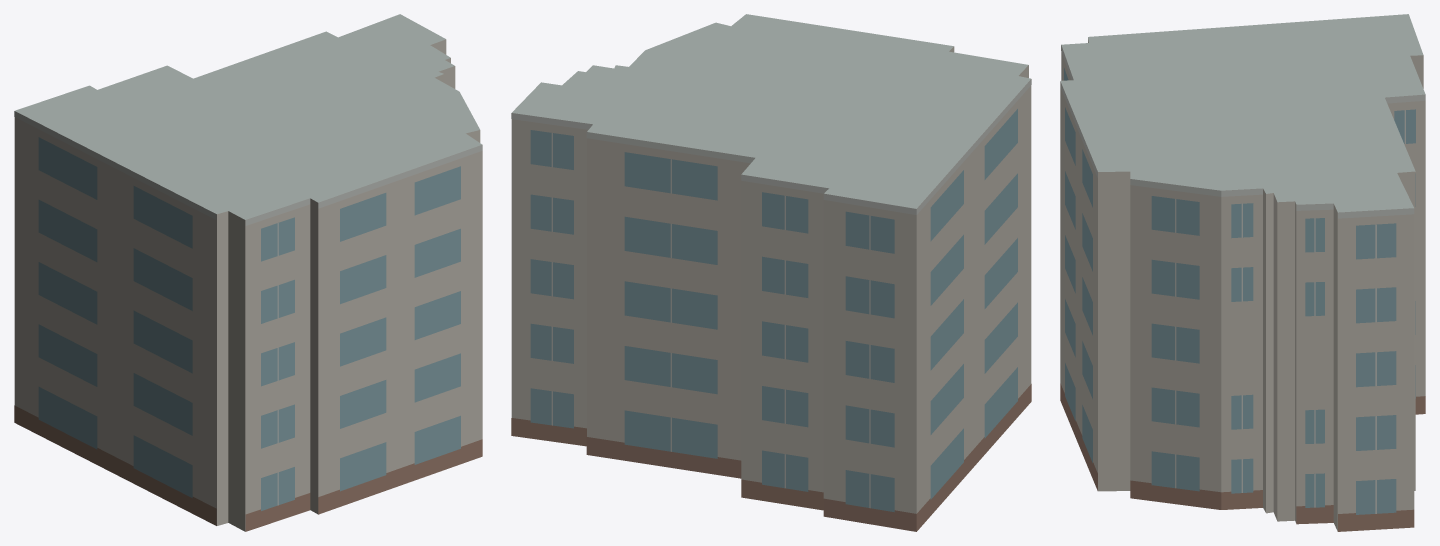
File: survey-upis-32673388.glb
The picture shows the model from 3 angles, left to right: view 1: azimuth 30°, elevation 25°; view 2: azimuth 150°, elevation 25°; view 3: azimuth 270°, elevation 25°; orthographic projection. The views are drawn at different scales.
Visible parts, largest first — view 1: survey-upis-32673388.tmp; view 2: survey-upis-32673388.tmp; view 3: survey-upis-32673388.tmp.
Boxes of the visible parts, x1,y1,x2,y2 form: survey-upis-32673388.tmp: (14,14,482,531); survey-upis-32673388.tmp: (511,14,1031,531); survey-upis-32673388.tmp: (1060,14,1425,531).
Bounding box in the file's own units: 16.78 × 12.58 × 13.05.
